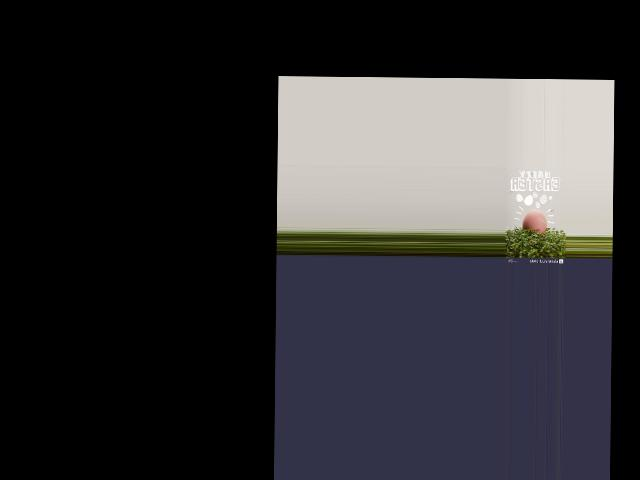egg: (521, 209, 546, 233)
